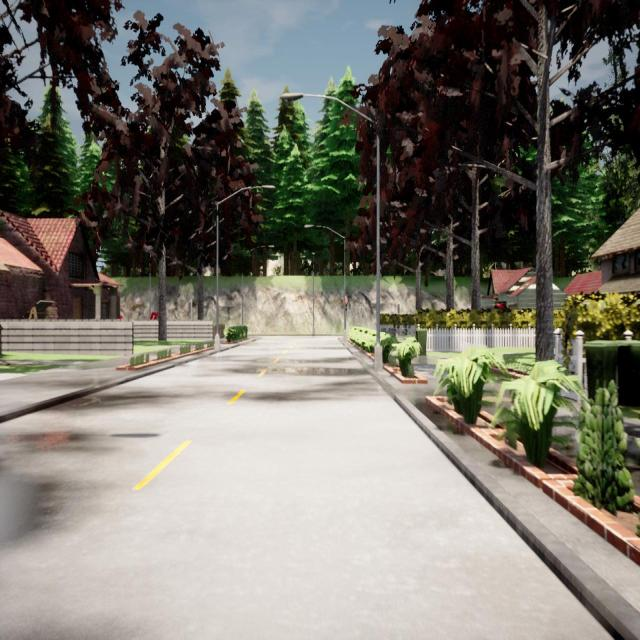traffic_light: (344, 298, 348, 310)
